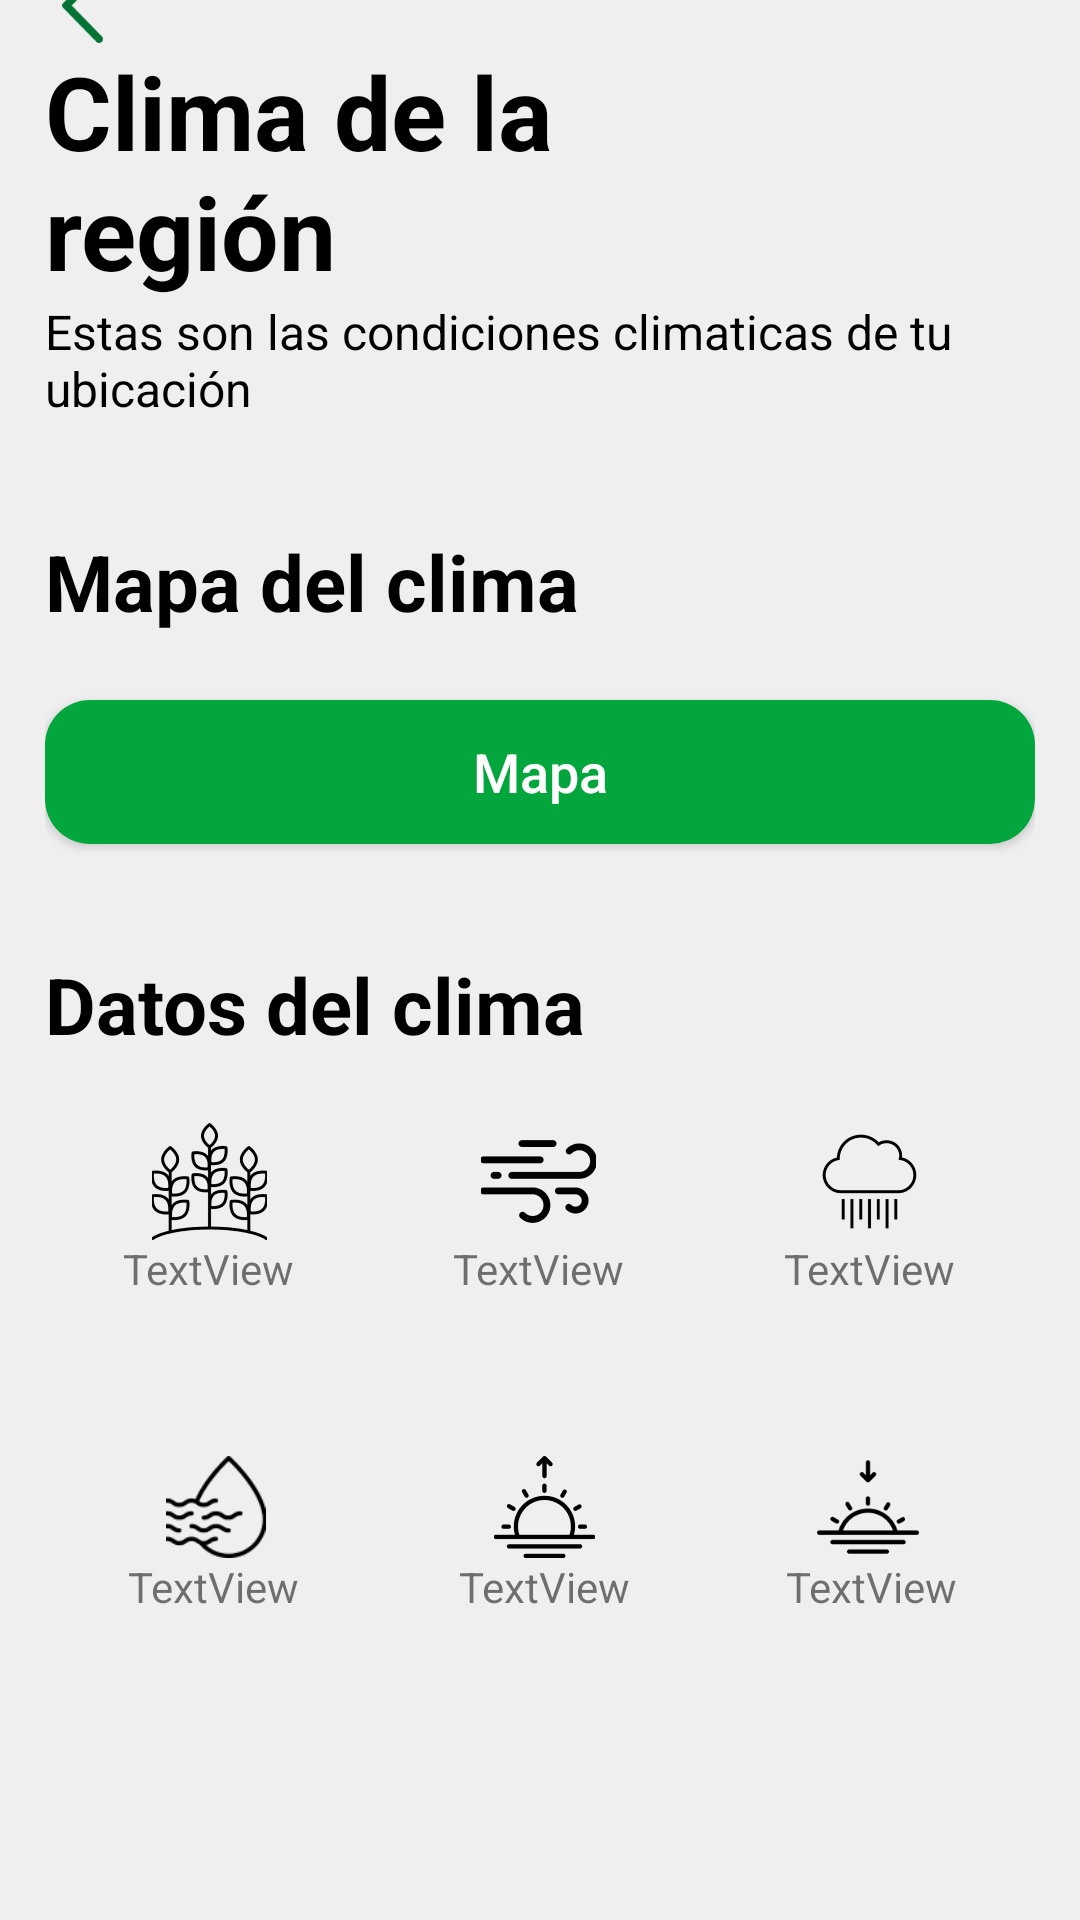

Icon click points for this 1080x1920 phone screenshot, format point (x, y):
humedad: point (216, 1507)
lluvia: point (869, 1181)
sol bajada: point (868, 1507)
sol salida: point (544, 1507)
viento: point (538, 1181)
